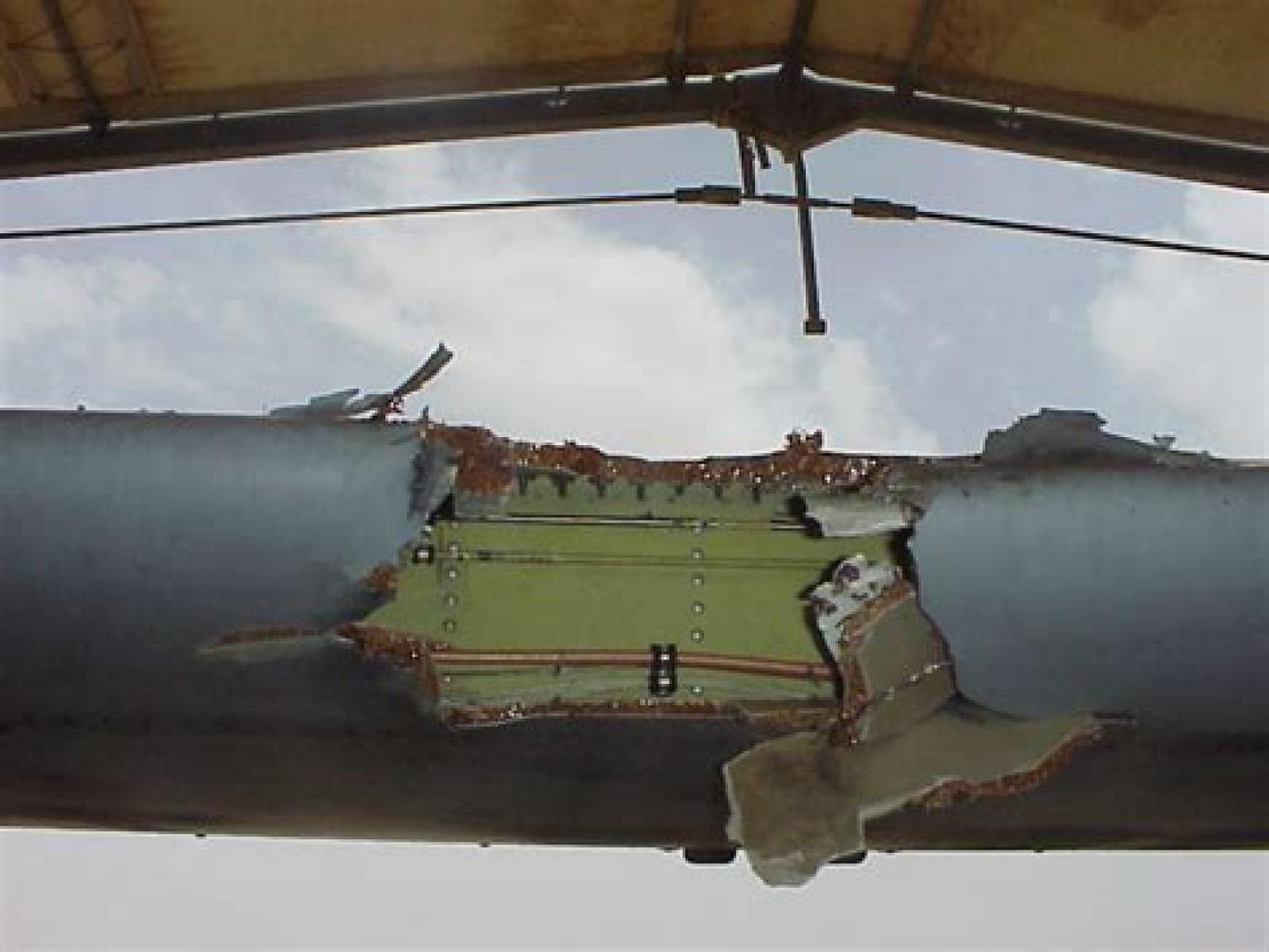Wing_damage: (337, 426, 913, 727), (723, 579, 1098, 885)
